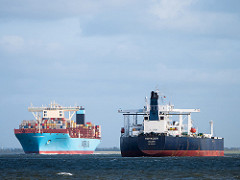container_ship: (14, 100, 103, 153)
tanker: (119, 90, 225, 157)
